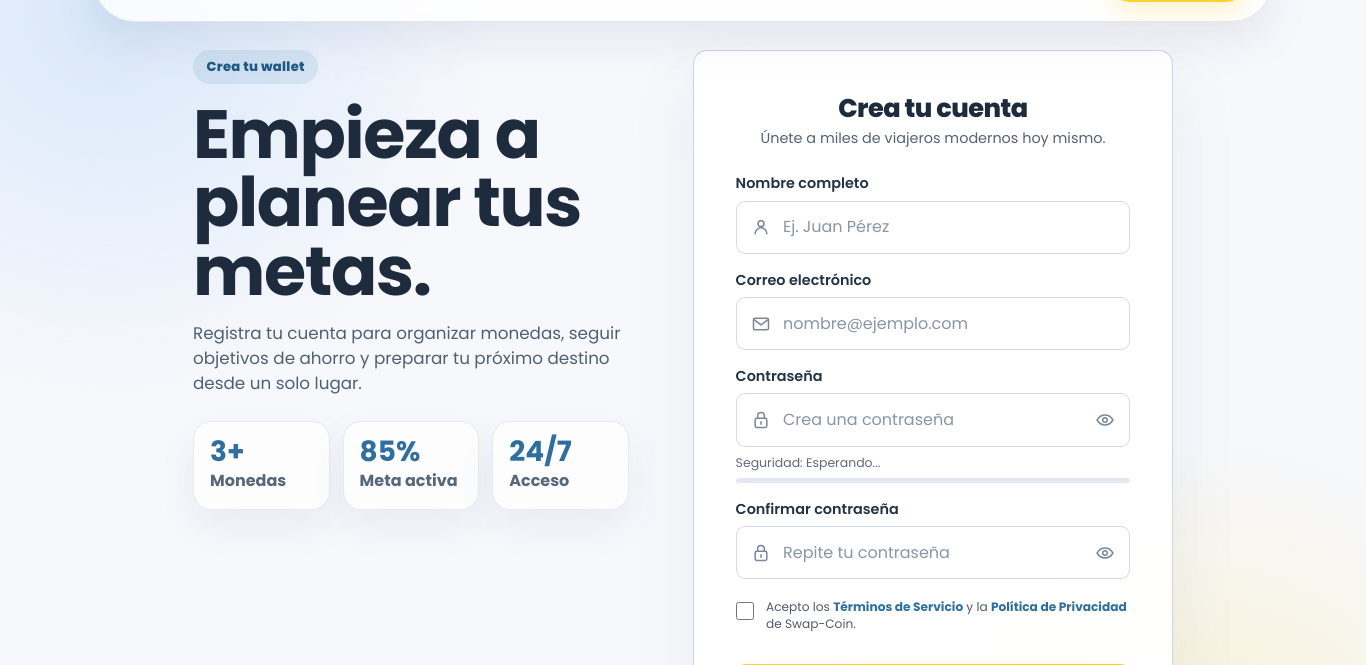
Test: RegisterPage › shows validation errors and avoids submit with invalid values
The width and height of the screenshot is (1366, 665).
Type "An" into the field labelled "Nombre completo" at (933, 227), box [736,201,1130,254]
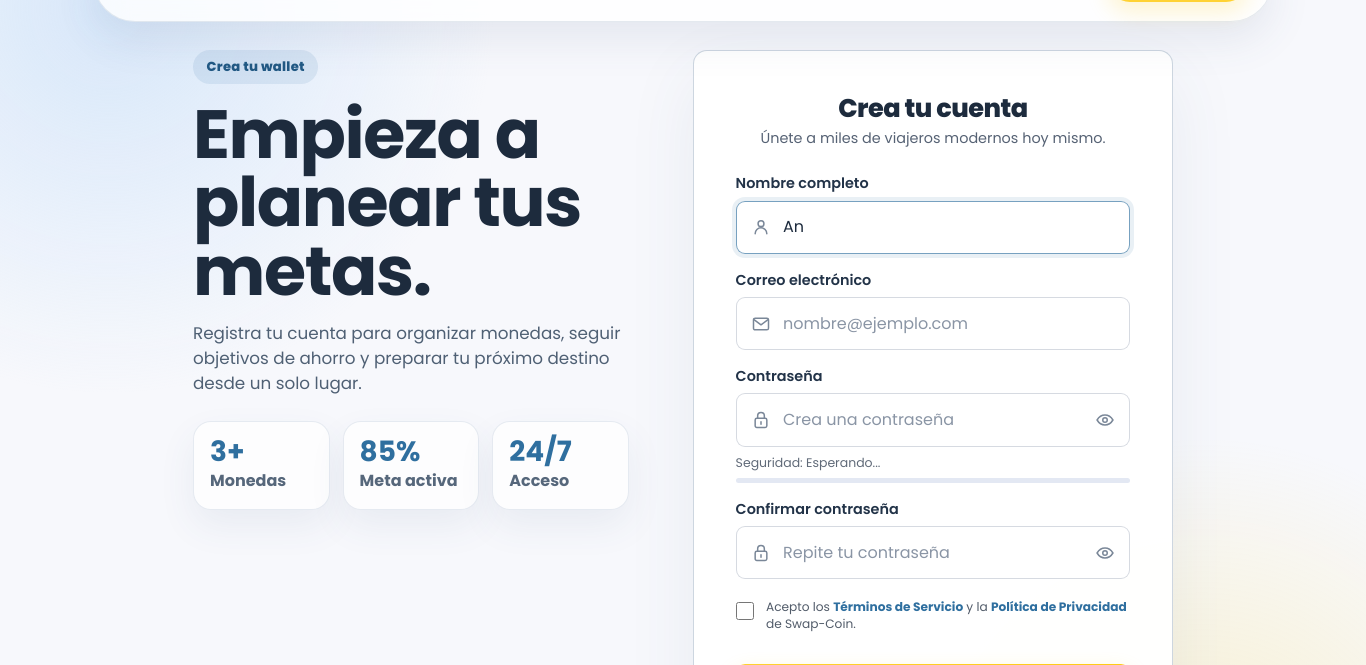
Type "correo" into the field labelled "Correo electrónico" at (933, 324), box [736,297,1130,350]
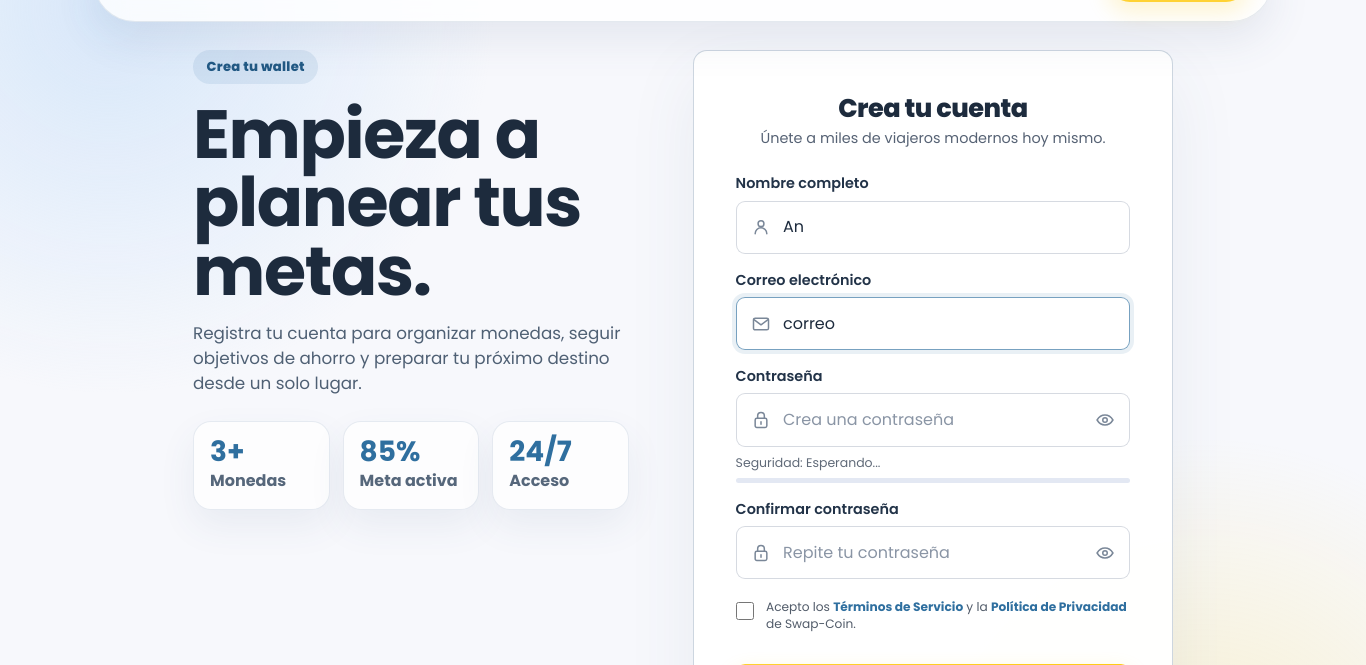
Type "weak" into the password field labelled "Contraseña" at (933, 420), box [736,393,1130,447]
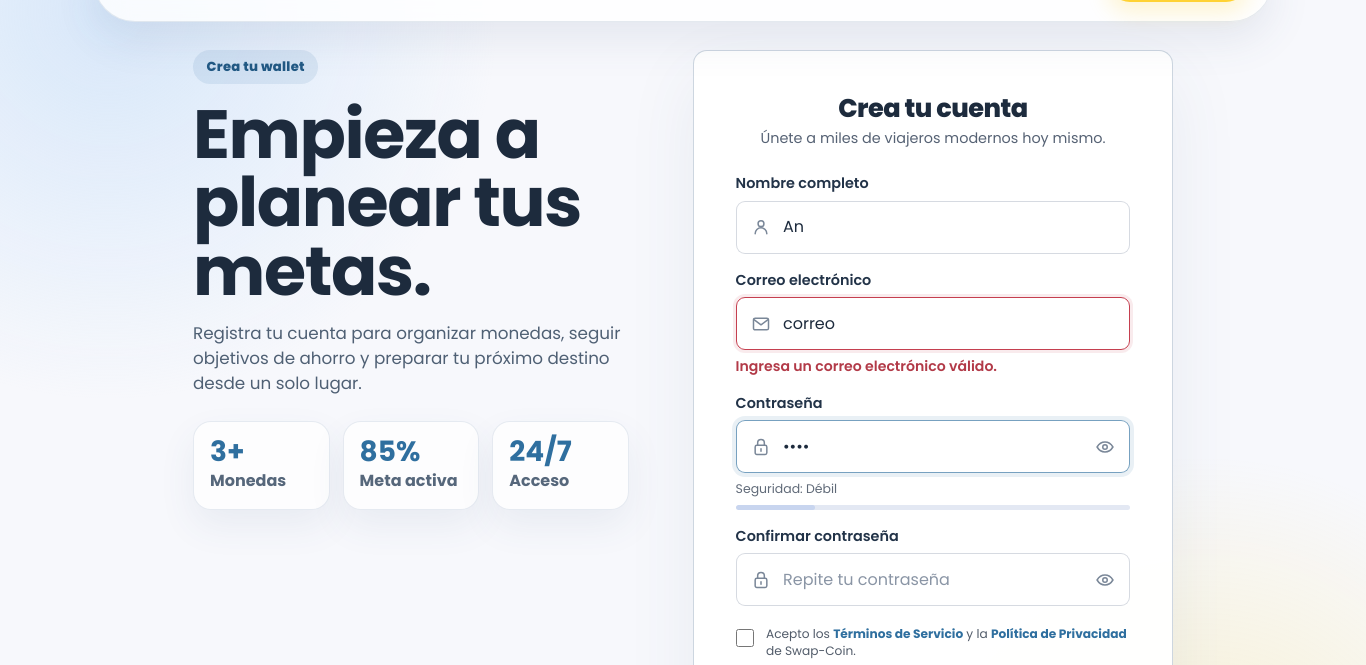
Type "different" into the password field labelled "Confirmar contraseña" at (933, 580), box [736,553,1130,606]
(page scrolled)
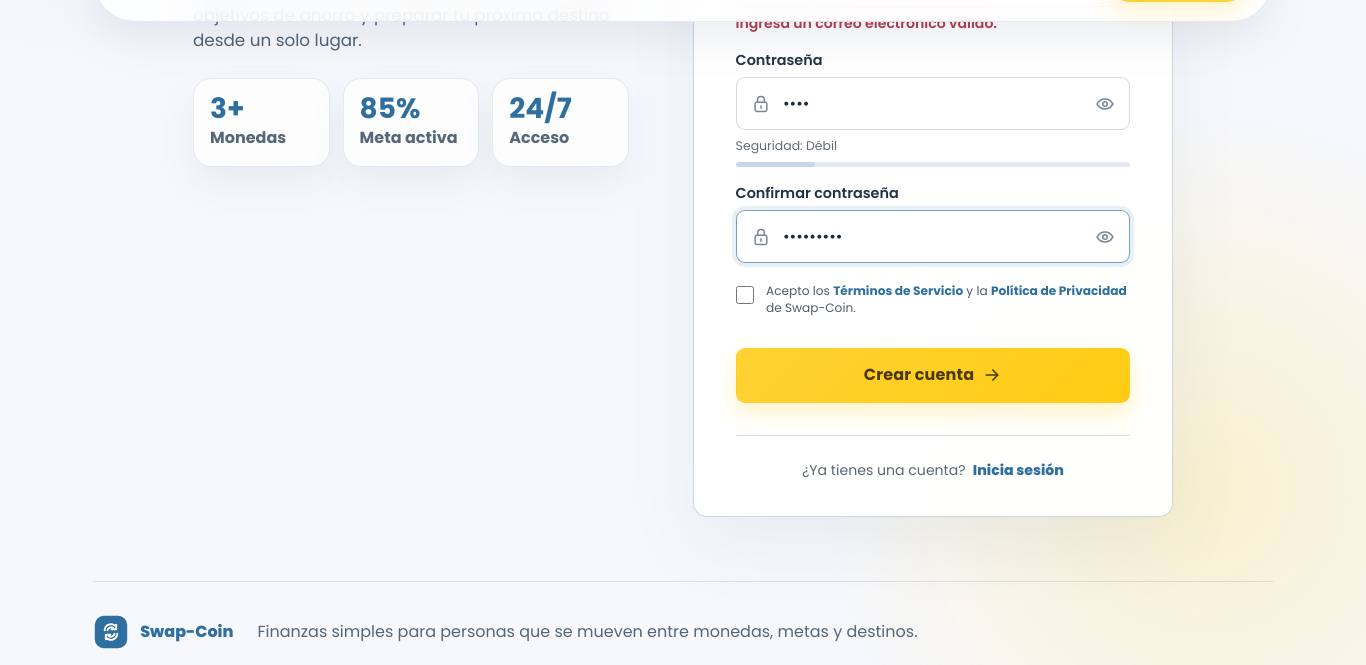
Click the button "Crear cuenta" at (933, 375), box [736,348,1130,403]
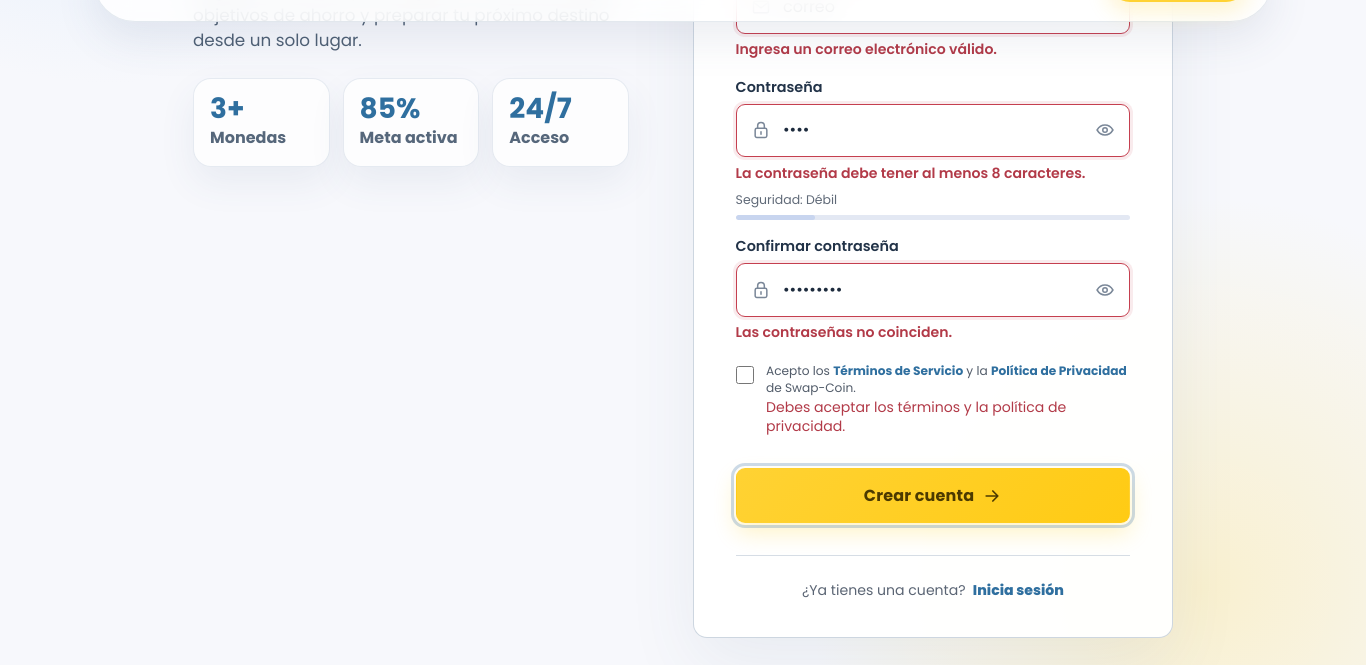
Now the text "Ingresa un correo electrónico válido." is shown, box [736,40,997,60]
Now the text "La contraseña debe tener al menos 8 caracteres." is shown, box [736,163,1130,184]
Now the text "Las contraseñas no coinciden." is shown, box [736,322,952,342]
